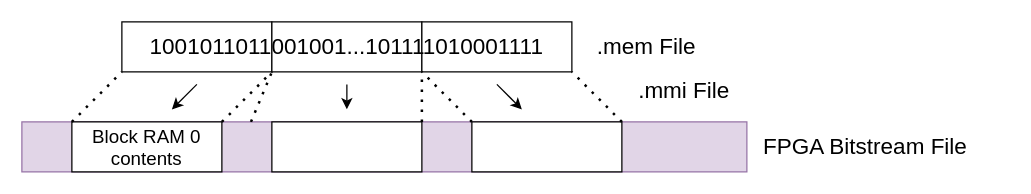
The diagram is 1031 pixels wide and 194 high, and some of its shapes have lost their labels. The shapes that lost their labels are listed below. From the top down, each one's box as (x1, y1, x2, y2) in pixels, then its label:
(271, 121, 422, 172): Block RAM ... contents
(471, 121, 622, 172): Block RAM N contents
